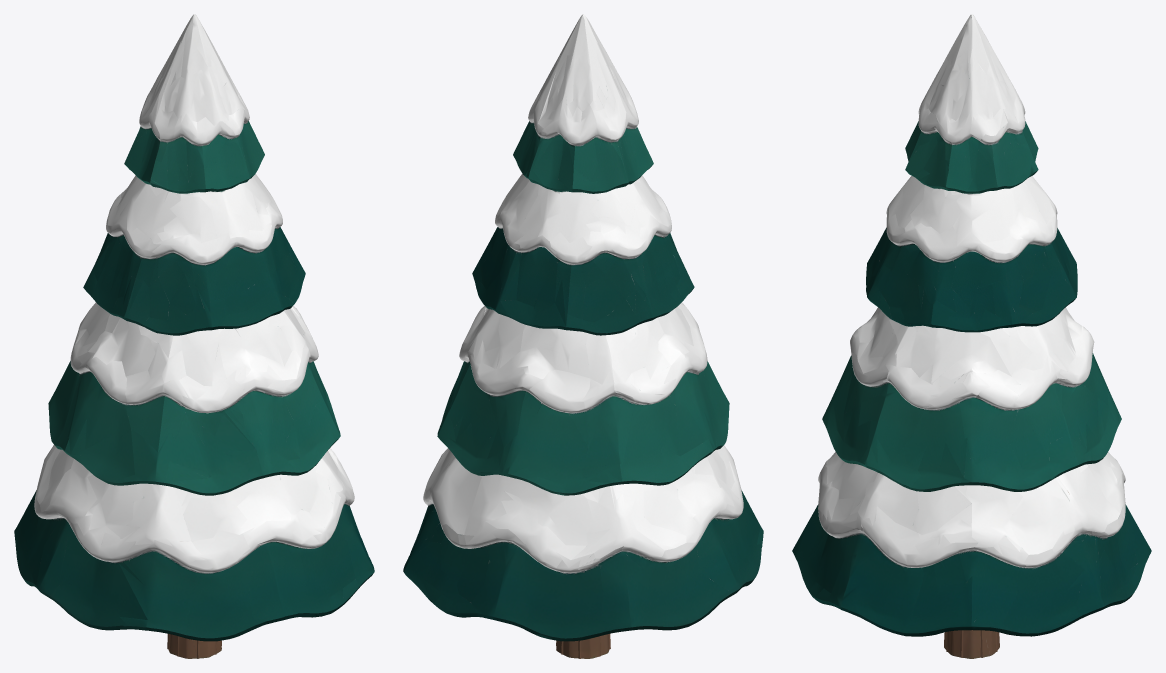
File: tree_raw.glb
3 renders of one model, left to right at view 1: azimuth 30°, elevation 25°; view 2: azimuth 150°, elevation 25°; view 3: azimuth 270°, elevation 25°, orthographic.
Size of the model in its own units: 0.9766 by 1.9 by 0.9772.
1 material, 1 textured.
